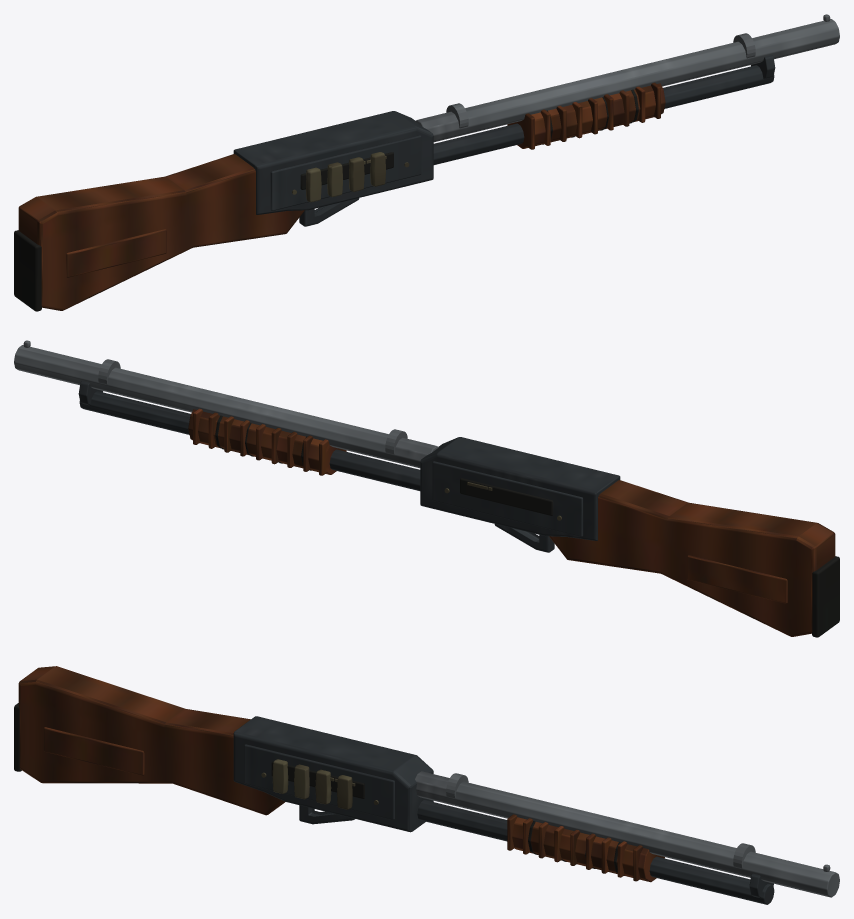
File: shotgun.glb
3 renders of one model, top to bottom at view 1: azimuth 30°, elevation 25°; view 2: azimuth 150°, elevation 25°; view 3: azimuth 330°, elevation 25°, orthographic.
Visible parts, largest first — view 1: shotgun_premium; view 2: shotgun_premium; view 3: shotgun_premium.
Part boxes in pixels (box(x1,y1,x2,y2)): shotgun_premium: box(14, 14, 839, 311); shotgun_premium: box(14, 340, 839, 637); shotgun_premium: box(14, 666, 839, 904).
Size of the model in its own units: 1.13 by 0.136 by 0.0846.
5 materials, 5 textured.
